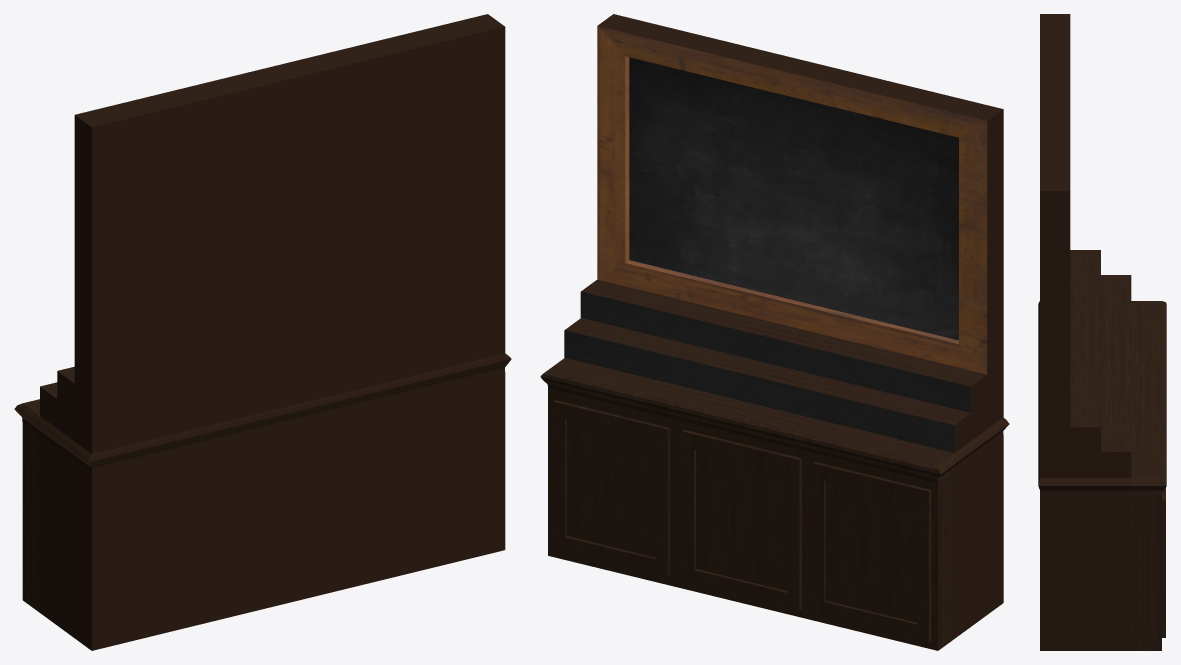
File: SB_Bar_Rack.fbx
3 renders of one model, left to right at view 1: azimuth 30°, elevation 25°; view 2: azimuth 150°, elevation 25°; view 3: azimuth 270°, elevation 25°, orthographic. The views are drawn at different scales.
Visible parts, largest first — view 1: Cube.007; view 2: Cube.007; view 3: Cube.007.
Boxes of the visible parts, bbox=[...] form: Cube.007: bbox=[14, 14, 511, 650]; Cube.007: bbox=[540, 14, 1009, 650]; Cube.007: bbox=[1038, 14, 1166, 650].
Bounding box in the file's own units: 451 × 532 × 134.
